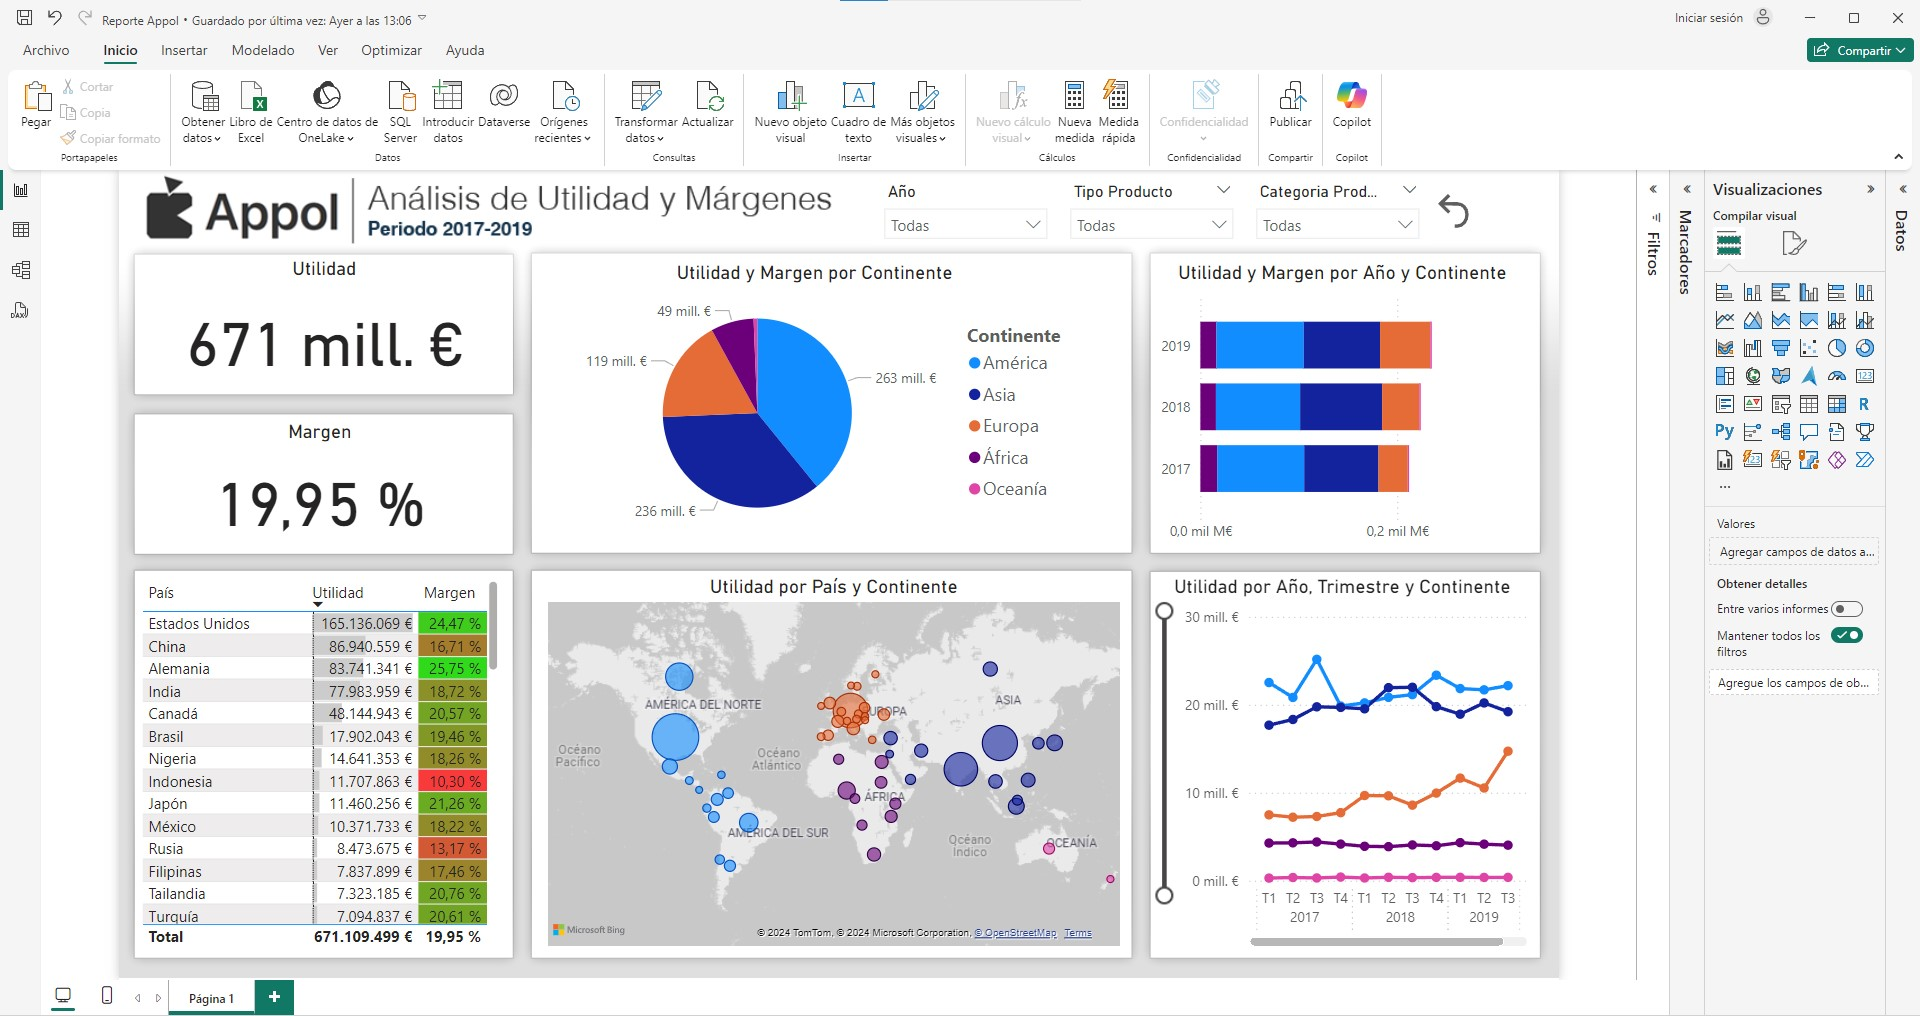

The dashboard page shown, as its layout file describes it:
{"tool":"powerbi","page":{"name":"Página 1","canvas":[1280,720],"ordinal":0},"visuals":[{"type":"tableEx","fields":{"Values":["Tabla Datos.País","Tabla Datos.Total Utilidad","Tabla Datos.Margen"]},"box":[15.3,360,326.8,334.9],"z":0},{"type":"card","title":"Utilidad","fields":{"Values":["Tabla Datos.Total Utilidad"]},"box":[15.3,77.2,334.9,122.1],"z":1000},{"type":"card","title":"Margen","fields":{"Values":["Tabla Datos.Margen"]},"box":[15.3,222.6,326.8,116.7],"z":2000},{"type":"barChart","fields":{"Category":["Tabla Datos.Año"],"Y":["Tabla Datos.Total Utilidad"],"Series":["Tabla Datos.Continente"]},"box":[918.4,80.8,338.5,258.6],"z":3000},{"type":"pieChart","fields":{"Category":["Tabla Datos.Continente"],"Y":["Tabla Datos.Total Utilidad"]},"box":[376.2,80.8,484.8,251.4],"z":4000},{"type":"map","fields":{"Size":["Tabla Datos.Total Utilidad"],"Category":["Tabla Datos.País"],"Series":["Tabla Datos.Continente"]},"box":[376.2,360,518.9,334.9],"z":5000},{"type":"lineChart","fields":{"Category":["Tabla Datos.Año","Tabla Datos.Trimestre"],"Y":["Tabla Datos.Total Utilidad"],"Series":["Tabla Datos.Continente"]},"box":[918.4,360,338.5,334.9],"z":7000},{"type":"slicer","fields":{"Values":["Tabla Datos.Tipo Producto"]},"box":[835.8,6.3,165.2,60.1],"z":7001},{"type":"slicer","fields":{"Values":["Tabla Datos.Año"]},"box":[670.6,6.3,165.2,60.1],"z":7002},{"type":"slicer","fields":{"Values":["Tabla Productos.Categoria Producto"]},"box":[1001,6.3,165.2,60.1],"z":7003},{"type":"actionButton","box":[1166.2,16.2,99.7,40.4],"z":7004}]}

Visuals, with their boxes on the page's 1280x720 design canvas (x1, y1, x2, y2). These are canvas units, not pixel positions in the 1920x1016 screenshot, which may show the page scaled, cropped or inside an application window:
tableEx - Tabla Datos.País x Tabla Datos.Total Utilidad: bbox(15, 360, 342, 695)
"Utilidad" card: bbox(15, 77, 350, 199)
"Margen" card: bbox(15, 223, 342, 339)
barChart - Tabla Datos.Año x Tabla Datos.Total Utilidad: bbox(918, 81, 1257, 339)
pieChart - Tabla Datos.Continente x Tabla Datos.Total Utilidad: bbox(376, 81, 861, 332)
map - Tabla Datos.Total Utilidad x Tabla Datos.País: bbox(376, 360, 895, 695)
lineChart - Tabla Datos.Año x Tabla Datos.Trimestre: bbox(918, 360, 1257, 695)
slicer - Tabla Datos.Tipo Producto: bbox(836, 6, 1001, 66)
slicer - Tabla Datos.Año: bbox(671, 6, 836, 66)
slicer - Tabla Productos.Categoria Producto: bbox(1001, 6, 1166, 66)
actionButton: bbox(1166, 16, 1266, 57)
